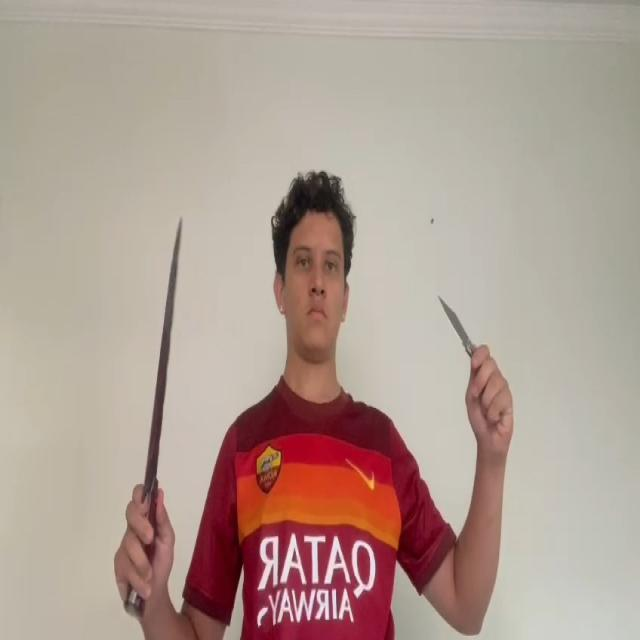knife: (144, 219, 182, 498), (438, 294, 470, 347)
